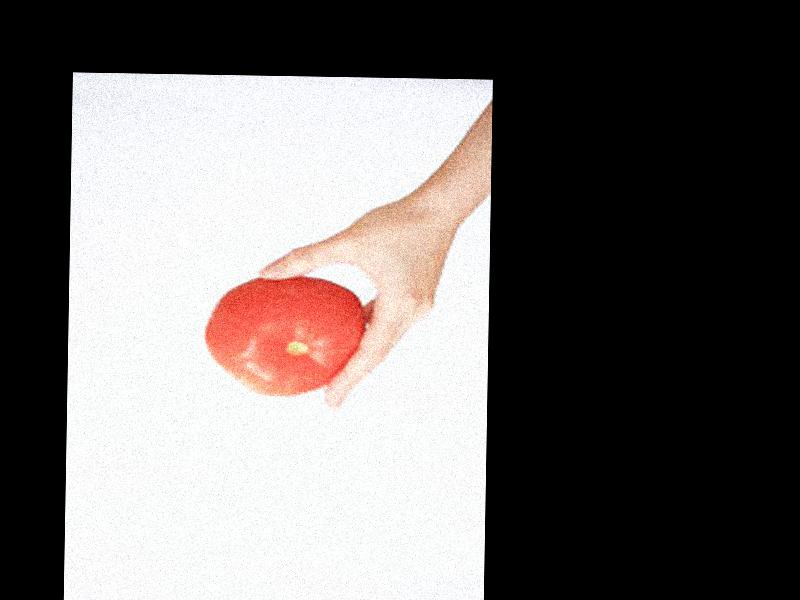Tomato: (205, 275, 362, 398)
